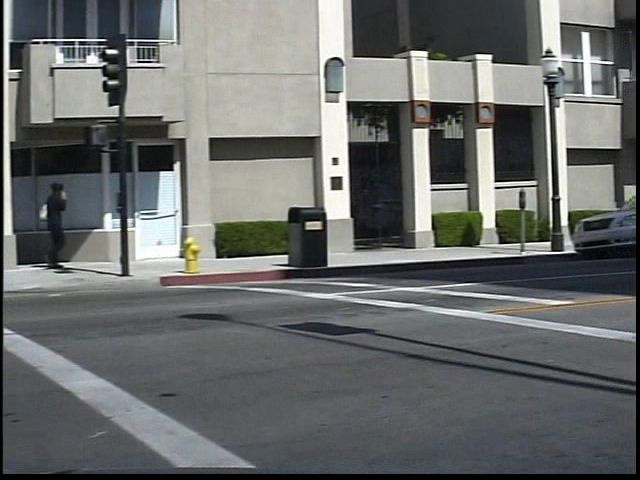person: (43, 176, 90, 275)
